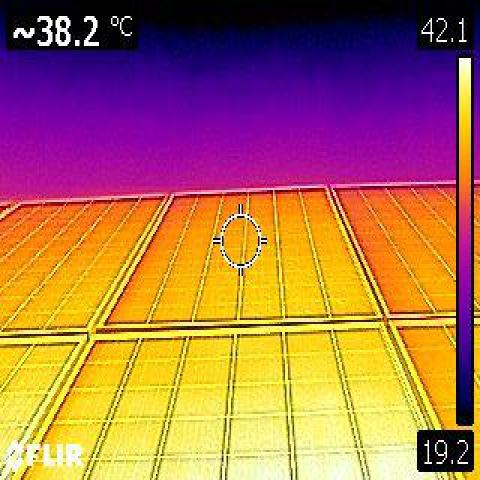fault: (295, 390, 408, 480)
